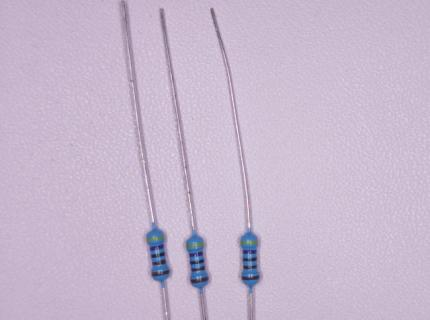Black band: (190, 259, 205, 265), (151, 252, 165, 258), (243, 257, 257, 261)
Brown band: (151, 269, 170, 276), (190, 276, 209, 283), (241, 275, 260, 280), (152, 259, 167, 265), (191, 265, 206, 271), (243, 265, 257, 269)
Violet band: (189, 251, 204, 258), (150, 244, 164, 251), (243, 250, 257, 254)
Yellow band: (146, 235, 164, 241), (186, 242, 204, 248), (240, 240, 258, 245)
